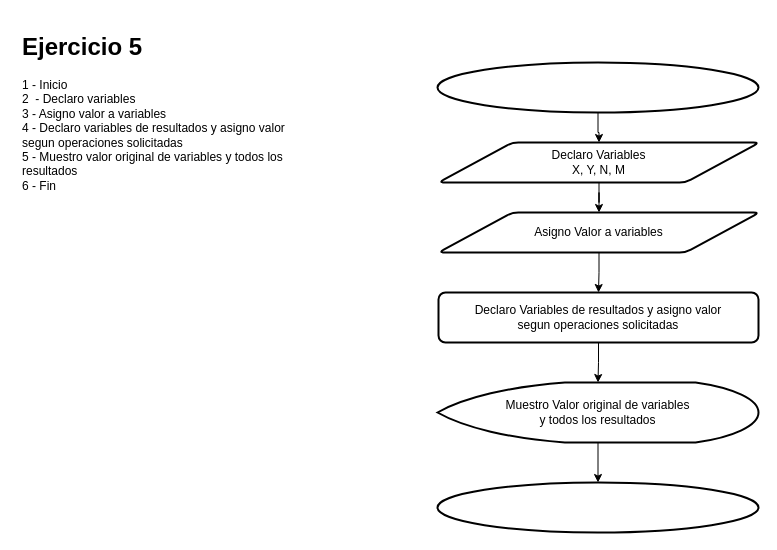
Image size: 777x550. Some labels were removed from this diagram. The centre of each missing label's shape, as x and y in pixels:
"Fin" belongs at pixel 597 507.
"Inicio" belongs at pixel 597 87.
